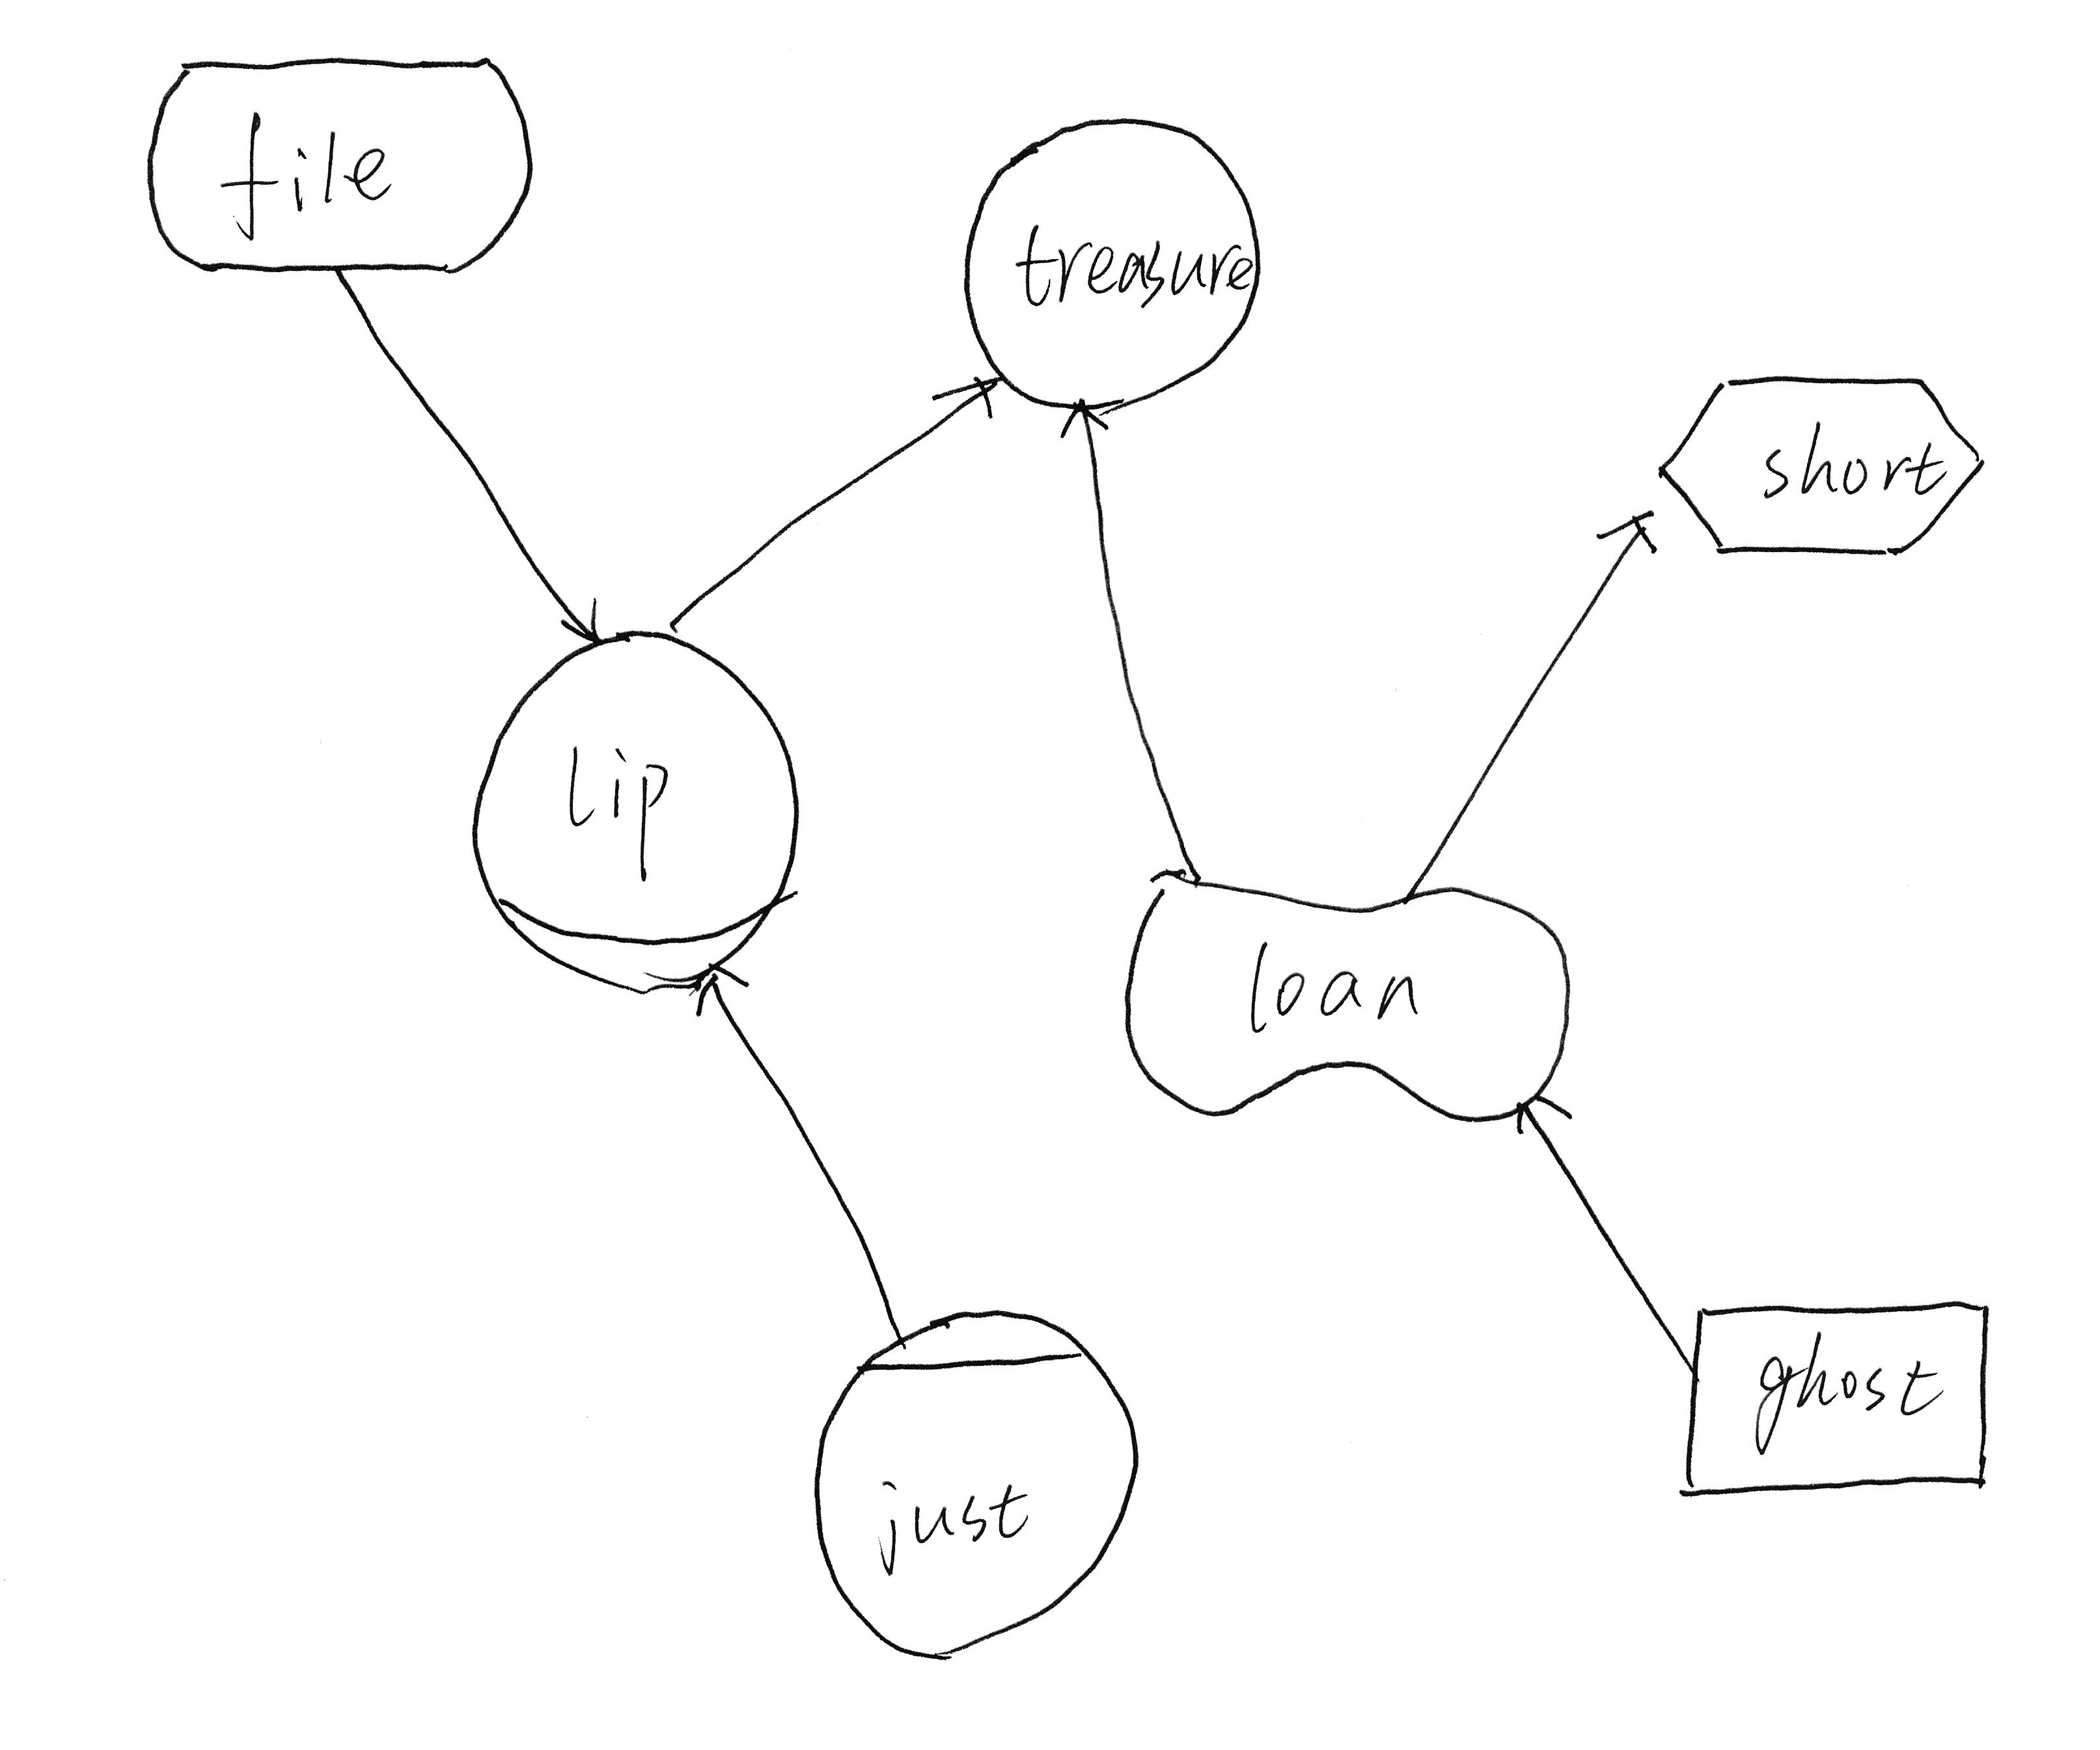actor: (949, 103, 1273, 438)
agent: (795, 1291, 1153, 1685)
arrow: (924, 356, 1019, 443), (1582, 499, 1674, 581), (537, 588, 614, 656), (691, 951, 757, 1022), (1505, 1090, 1584, 1150), (1048, 391, 1120, 450)
goal: (134, 40, 546, 290)
quality: (1102, 846, 1592, 1132)
resource: (1667, 1289, 2013, 1511)
role: (462, 618, 822, 1005)
task: (1643, 349, 1999, 574)
